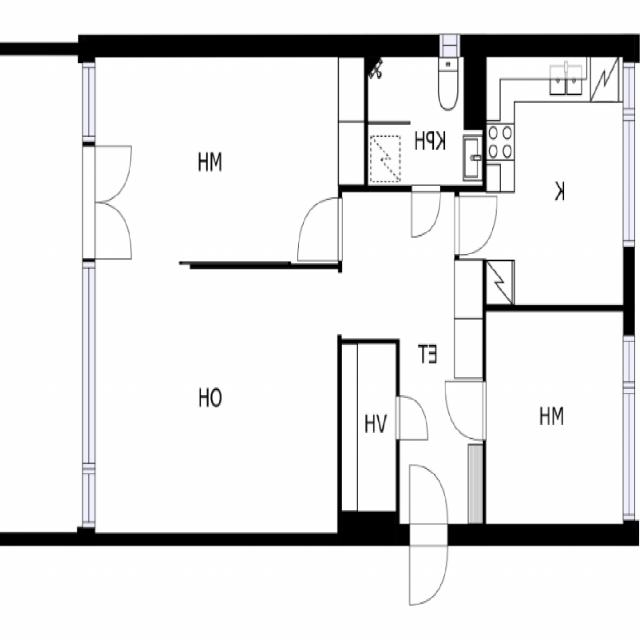door: (410, 464, 448, 546), (410, 524, 448, 604), (82, 144, 133, 202), (82, 201, 133, 259), (299, 198, 342, 260), (455, 196, 496, 254), (446, 382, 486, 439), (412, 185, 440, 234), (396, 396, 427, 438)
